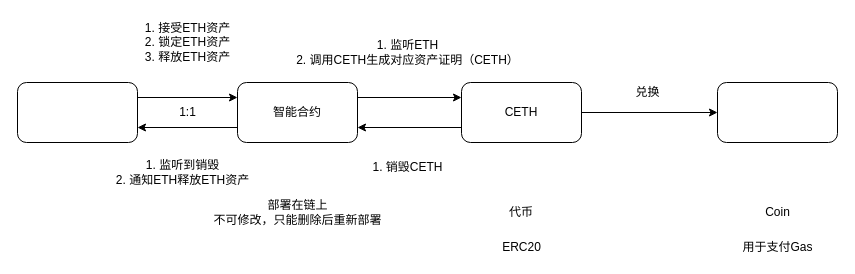
The diagram is 855 pixels wide and 274 high, and some of its shapes have lost their labels. The centre of each missing label's shape, as x and y in pixels:
"CUNP" goes at pixel 777 112.
"ETH" goes at pixel 77 112.
